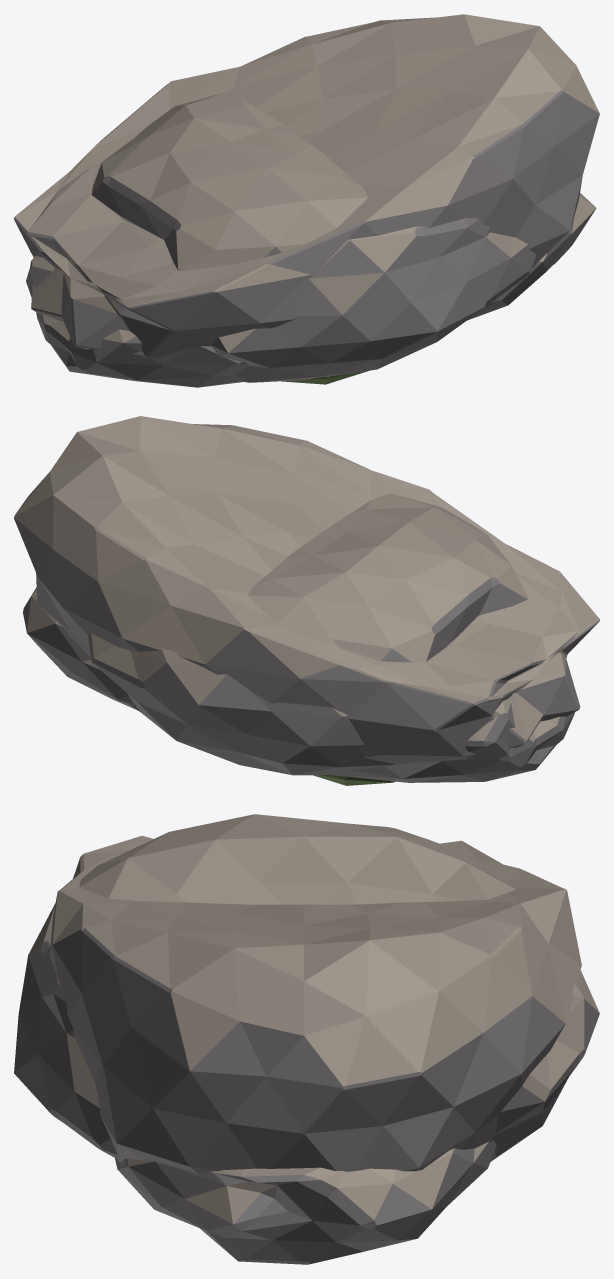
File: environment-kit.glb
The picture shows the model from 3 angles, top to bottom: view 1: azimuth 30°, elevation 25°; view 2: azimuth 150°, elevation 25°; view 3: azimuth 270°, elevation 25°; orthographic projection. The views are drawn at different scales.
Parts seen in each view (by area): view 1: rock-0, rock-2, rock-1; view 2: rock-0, rock-2, rock-1; view 3: rock-0, rock-2, rock-1.
Boxes of the visible parts, x1=… form: rock-0: x1=14, y1=14, x2=599, y2=358; rock-2: x1=91, y1=92, x2=536, y2=382; rock-1: x1=26, y1=193, x2=596, y2=387; rock-0: x1=14, y1=416, x2=599, y2=763; rock-2: x1=88, y1=493, x2=527, y2=775; rock-1: x1=23, y1=587, x2=574, y2=782; rock-0: x1=49, y1=835, x2=581, y2=1173; rock-2: x1=14, y1=814, x2=599, y2=1161; rock-1: x1=115, y1=1140, x2=496, y2=1264.
Bounding box in the file's own units: 2.62 × 1.27 × 1.92.
